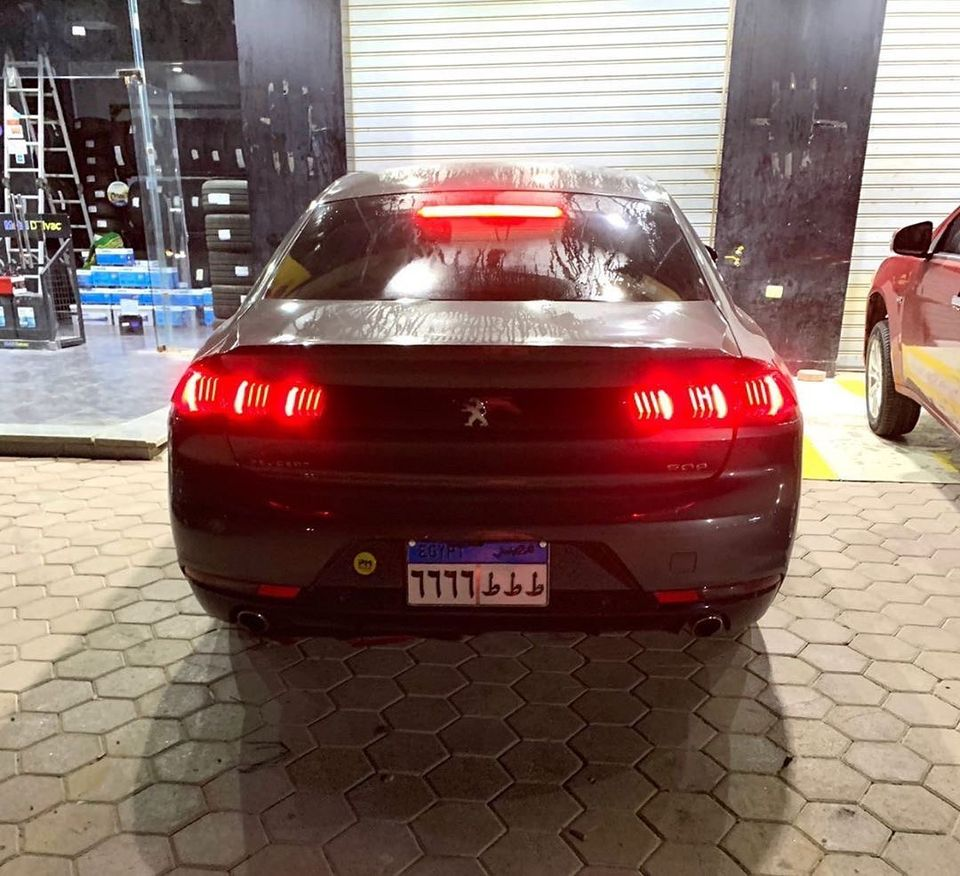carpl: (406, 564, 555, 605)
